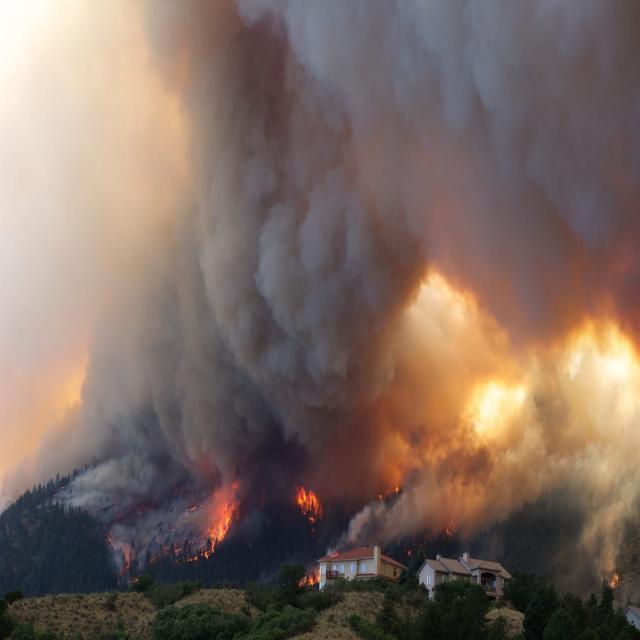Fire: (199, 472, 348, 562)
Smoke: (0, 0, 640, 470)
